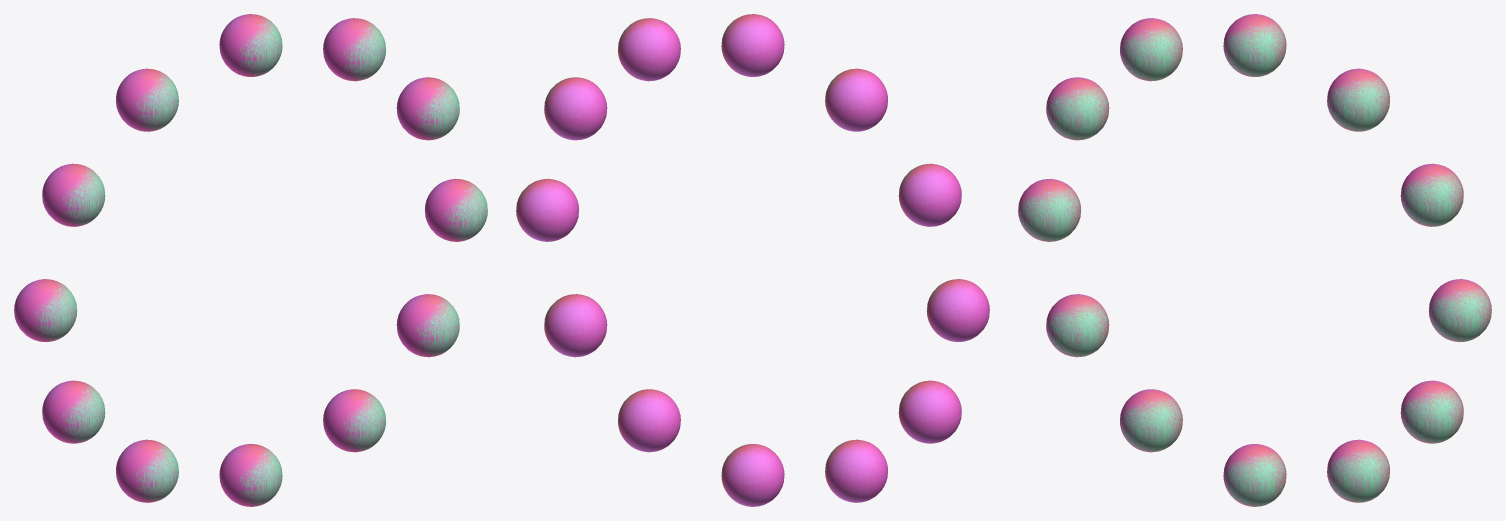
The model's file is UFO_Bmain_ring.obj.
3 views of the same model, side by side, from view 1: azimuth 30°, elevation 25°; view 2: azimuth 150°, elevation 25°; view 3: azimuth 330°, elevation 25° (orthographic).
Parts seen in each view (by area): view 1: UFO_Sphere_11, UFO_Sphere_05, UFO_Sphere_03, UFO_Sphere_09, UFO_Sphere_01, UFO_Sphere_07, UFO_Sphere_02, UFO_Sphere_08, UFO_Sphere_00, UFO_Sphere_04, UFO_Sphere_10, UFO_Sphere_06; view 2: UFO_Sphere_11, UFO_Sphere_03, UFO_Sphere_05, UFO_Sphere_09, UFO_Sphere_01, UFO_Sphere_07, UFO_Sphere_02, UFO_Sphere_08, UFO_Sphere_04, UFO_Sphere_10, UFO_Sphere_00, UFO_Sphere_06; view 3: UFO_Sphere_07, UFO_Sphere_01, UFO_Sphere_03, UFO_Sphere_09, UFO_Sphere_05, UFO_Sphere_11, UFO_Sphere_04, UFO_Sphere_10, UFO_Sphere_02, UFO_Sphere_06, UFO_Sphere_08, UFO_Sphere_00.
Boxes of the visible parts, left/top/right/bottom form: UFO_Sphere_11: left=396, top=77, right=459, bottom=140; UFO_Sphere_05: left=42, top=380, right=105, bottom=443; UFO_Sphere_03: left=219, top=444, right=282, bottom=506; UFO_Sphere_09: left=219, top=14, right=282, bottom=76; UFO_Sphere_01: left=396, top=294, right=459, bottom=357; UFO_Sphere_07: left=42, top=163, right=105, bottom=226; UFO_Sphere_02: left=323, top=389, right=385, bottom=452; UFO_Sphere_08: left=116, top=68, right=178, bottom=131; UFO_Sphere_00: left=424, top=178, right=487, bottom=241; UFO_Sphere_04: left=116, top=439, right=178, bottom=502; UFO_Sphere_10: left=323, top=18, right=385, bottom=81; UFO_Sphere_06: left=14, top=279, right=77, bottom=342; UFO_Sphere_11: left=544, top=77, right=607, bottom=140; UFO_Sphere_03: left=721, top=444, right=784, bottom=506; UFO_Sphere_05: left=898, top=380, right=961, bottom=443; UFO_Sphere_09: left=721, top=14, right=784, bottom=76; UFO_Sphere_01: left=544, top=294, right=607, bottom=357; UFO_Sphere_07: left=898, top=163, right=961, bottom=226; UFO_Sphere_02: left=618, top=389, right=680, bottom=452; UFO_Sphere_08: left=825, top=68, right=887, bottom=131; UFO_Sphere_04: left=825, top=439, right=887, bottom=502; UFO_Sphere_10: left=618, top=18, right=680, bottom=81; UFO_Sphere_00: left=516, top=178, right=579, bottom=241; UFO_Sphere_06: left=926, top=279, right=989, bottom=342; UFO_Sphere_07: left=1046, top=77, right=1109, bottom=140; UFO_Sphere_01: left=1400, top=380, right=1463, bottom=443; UFO_Sphere_03: left=1223, top=444, right=1286, bottom=506; UFO_Sphere_09: left=1223, top=14, right=1286, bottom=76; UFO_Sphere_05: left=1046, top=294, right=1109, bottom=357; UFO_Sphere_11: left=1400, top=163, right=1463, bottom=226; UFO_Sphere_04: left=1120, top=389, right=1182, bottom=452; UFO_Sphere_10: left=1327, top=68, right=1389, bottom=131; UFO_Sphere_02: left=1327, top=439, right=1389, bottom=502; UFO_Sphere_06: left=1018, top=178, right=1081, bottom=241; UFO_Sphere_08: left=1120, top=18, right=1182, bottom=81; UFO_Sphere_00: left=1428, top=279, right=1491, bottom=342.
Bounding box in the file's own units: 1.39 × 1.39 × 0.1632.
1 material, 1 textured.
